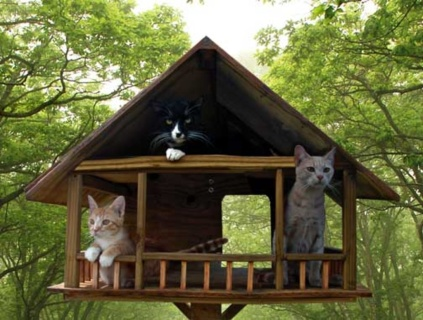Cat: (83, 195, 229, 287), (257, 144, 336, 286), (149, 95, 213, 162)
